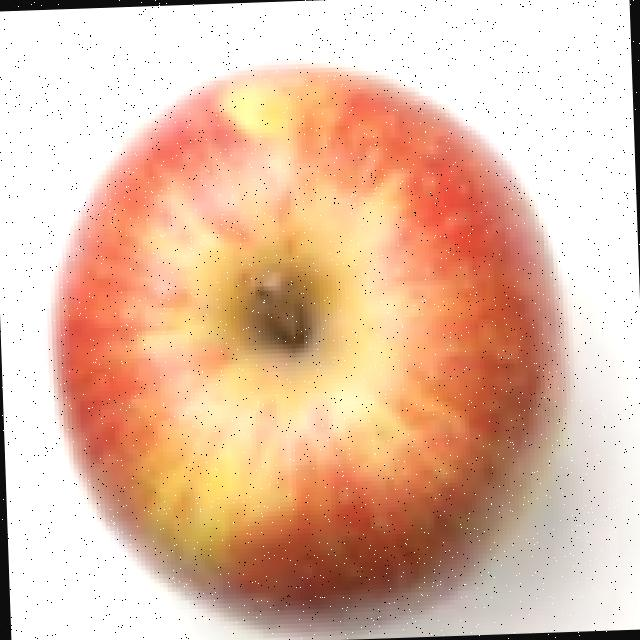Ripe: (34, 47, 588, 635)
